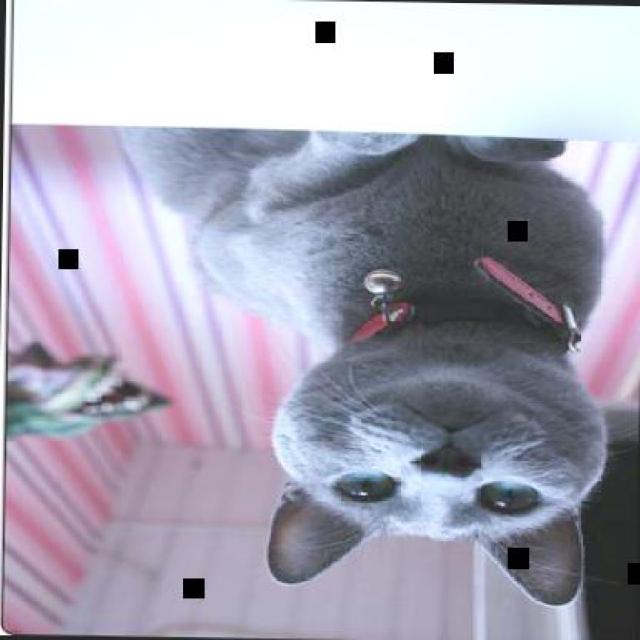cat: (105, 126, 613, 608)
